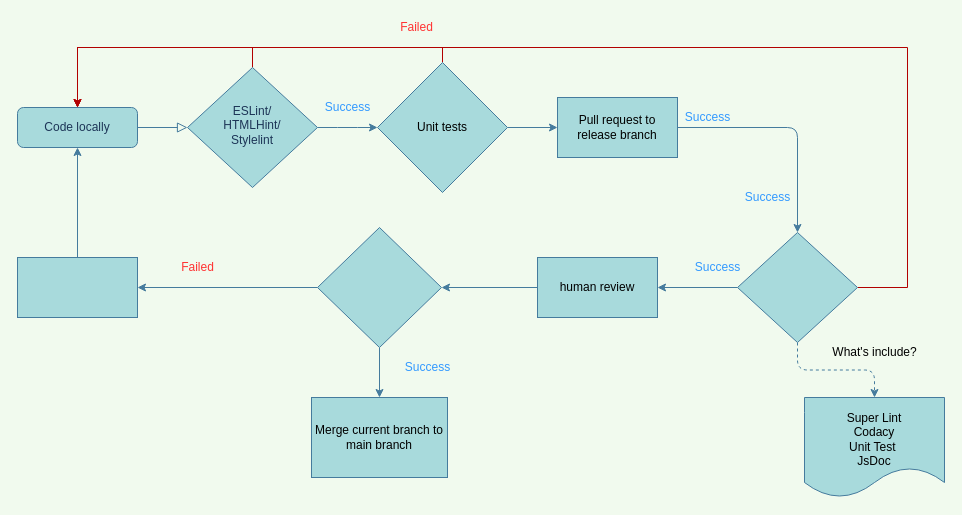
Some shapes in this 962 by 515 pixel diagram are drawn without their labels. The centre of each missing label's shape, as x and y in pixels:
"Create issue" belongs at (77,287).
"GitHub Action" belongs at (797,287).
"Manual testing" belongs at (379,287).
